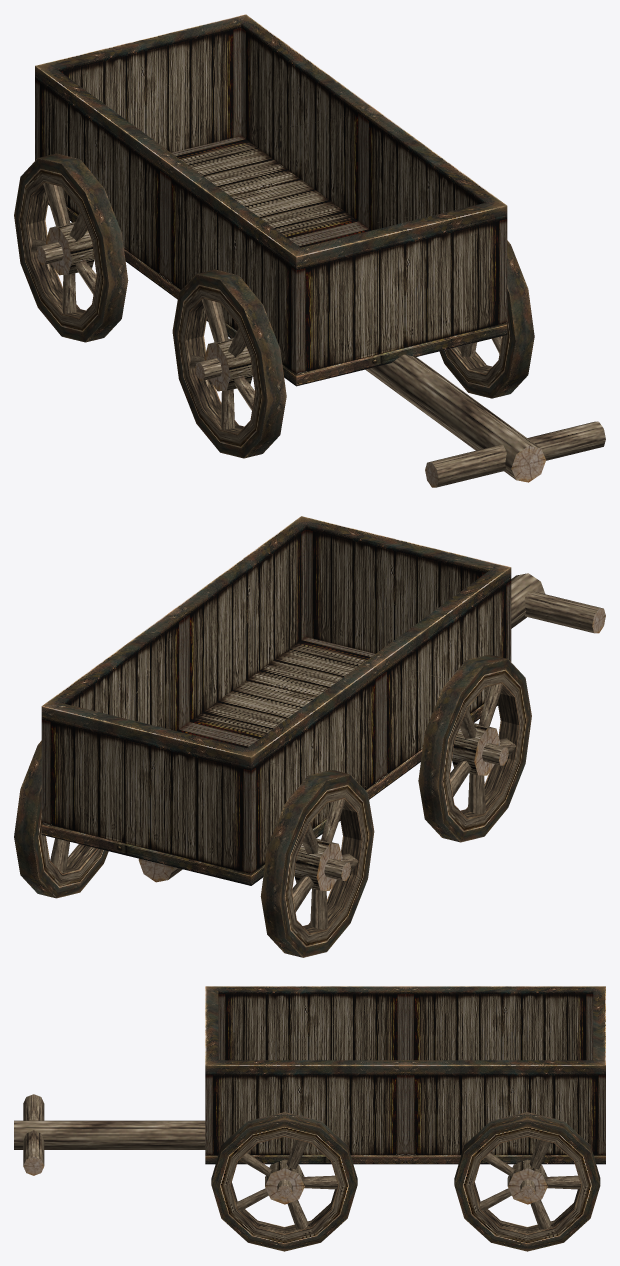
Rendered from wagon02.FBX.
The picture shows the model from 3 angles, top to bottom: view 1: azimuth 30°, elevation 25°; view 2: azimuth 150°, elevation 25°; view 3: azimuth 270°, elevation 25°; orthographic projection. The views are drawn at different scales.
Visible parts, largest first — view 1: wagon02; view 2: wagon02; view 3: wagon02.
Boxes of the visible parts, x1=… form: wagon02: x1=14, y1=14, x2=605, y2=487; wagon02: x1=14, y1=516, x2=605, y2=957; wagon02: x1=14, y1=986, x2=605, y2=1251.
Size of the model in its own units: 223 by 160 by 490.
